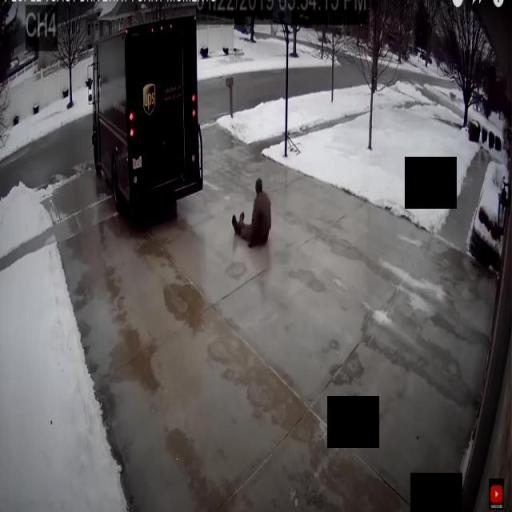Fall: (232, 175, 273, 249)
